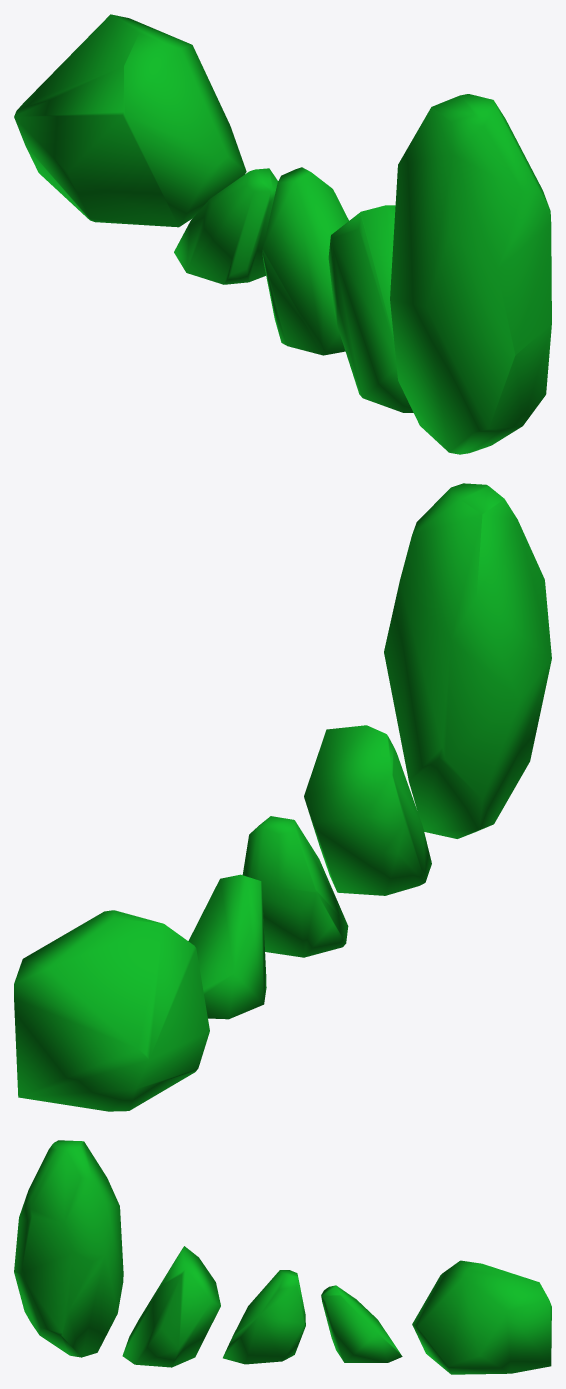
The model's file is stones.fbx.
3 views of the same model, one above another, from view 1: azimuth 30°, elevation 25°; view 2: azimuth 150°, elevation 25°; view 3: azimuth 270°, elevation 25° (orthographic). The views are drawn at different scales.
Parts seen in each view (by area): view 1: stone1, stone5, stone3, stone2, stone4; view 2: stone1, stone5, stone2, stone3, stone4; view 3: stone1, stone5, stone2, stone3, stone4.
Boxes of the visible parts, bbox=[...] form: stone1: bbox=[390, 94, 551, 454]; stone5: bbox=[14, 14, 246, 227]; stone3: bbox=[262, 167, 348, 355]; stone2: bbox=[328, 205, 413, 412]; stone4: bbox=[174, 168, 278, 284]; stone1: bbox=[384, 483, 551, 838]; stone5: bbox=[14, 910, 209, 1111]; stone2: bbox=[304, 725, 431, 895]; stone3: bbox=[242, 816, 348, 957]; stone4: bbox=[188, 874, 266, 1019]; stone1: bbox=[14, 1140, 123, 1357]; stone5: bbox=[412, 1260, 551, 1374]; stone2: bbox=[122, 1246, 220, 1367]; stone3: bbox=[223, 1270, 305, 1364]; stone4: bbox=[321, 1285, 402, 1362].
Bounding box in the file's own units: 2.87 × 5.48 × 12.93.
